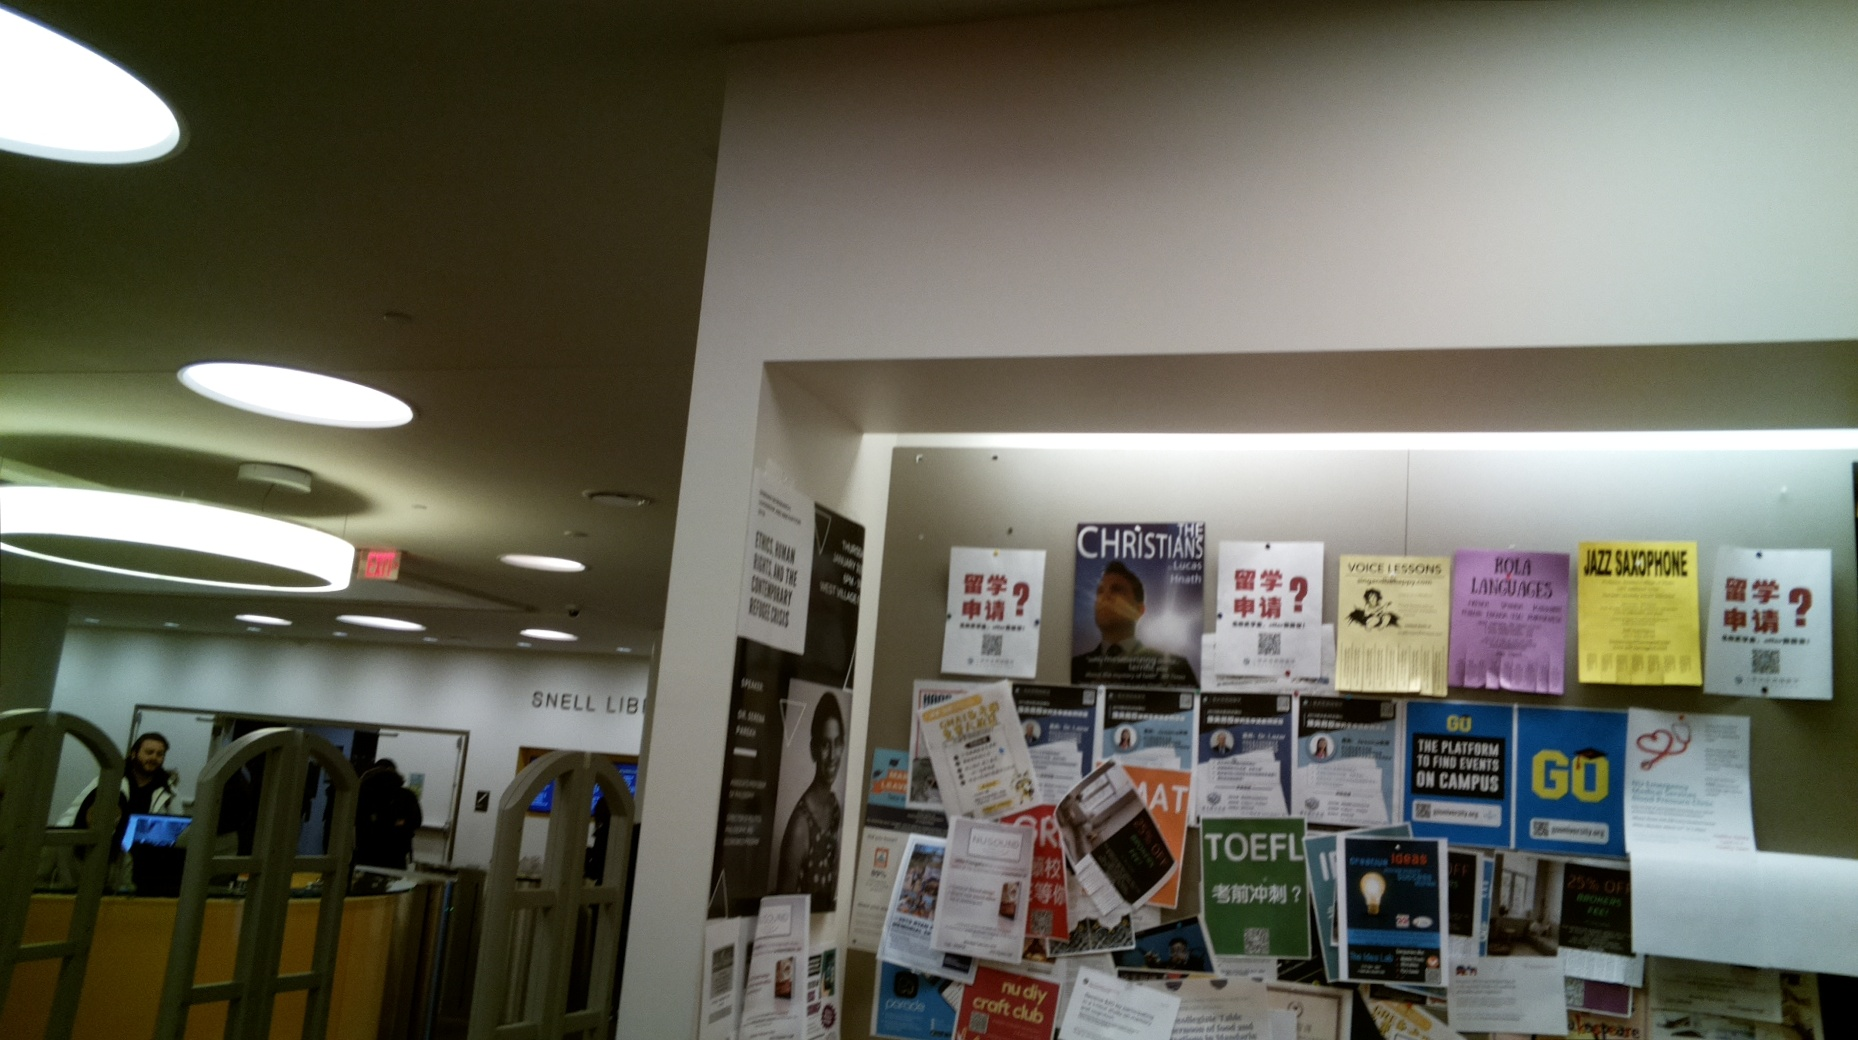exit sign: (353, 546, 410, 584)
